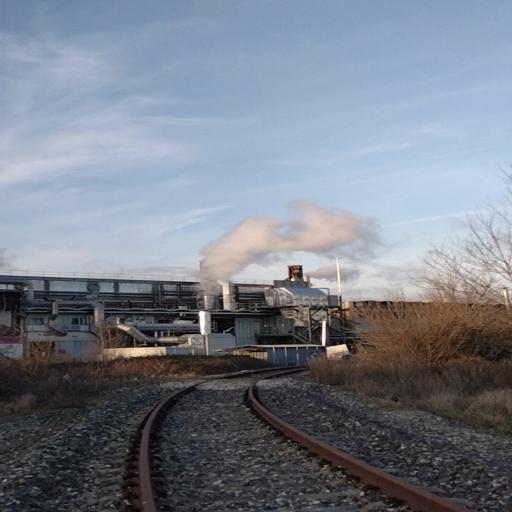leakage: (185, 200, 438, 314)
